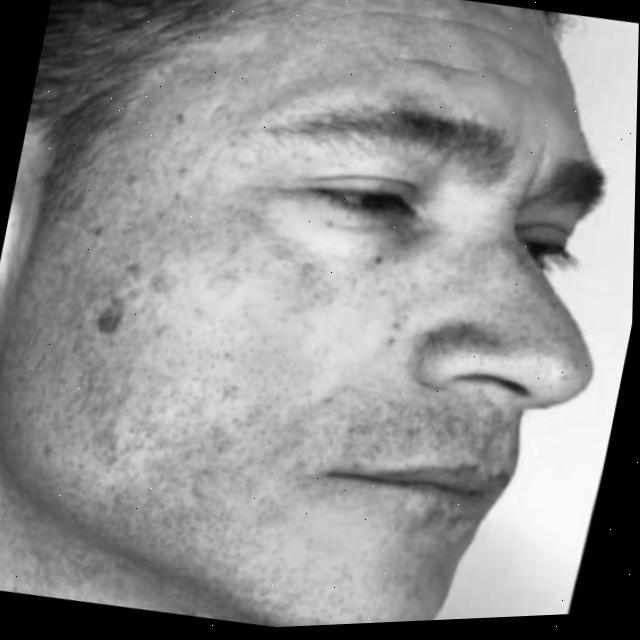Melasma: (0, 8, 364, 573), (248, 0, 542, 107)
